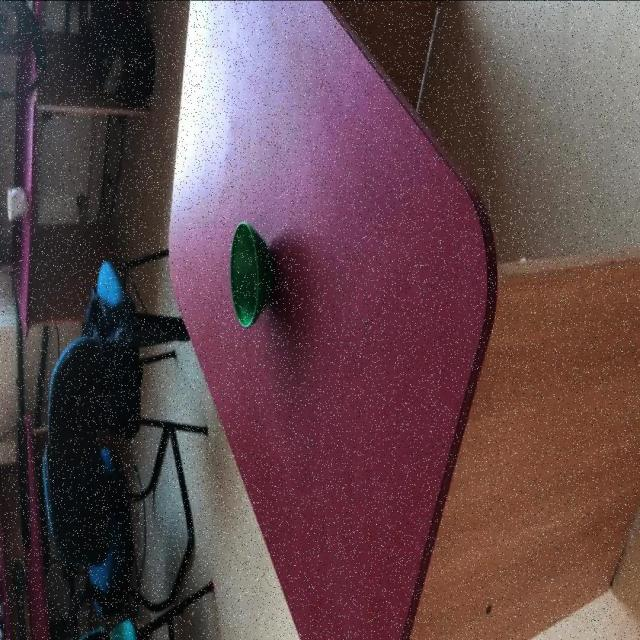Bowl: (229, 222, 274, 330)
